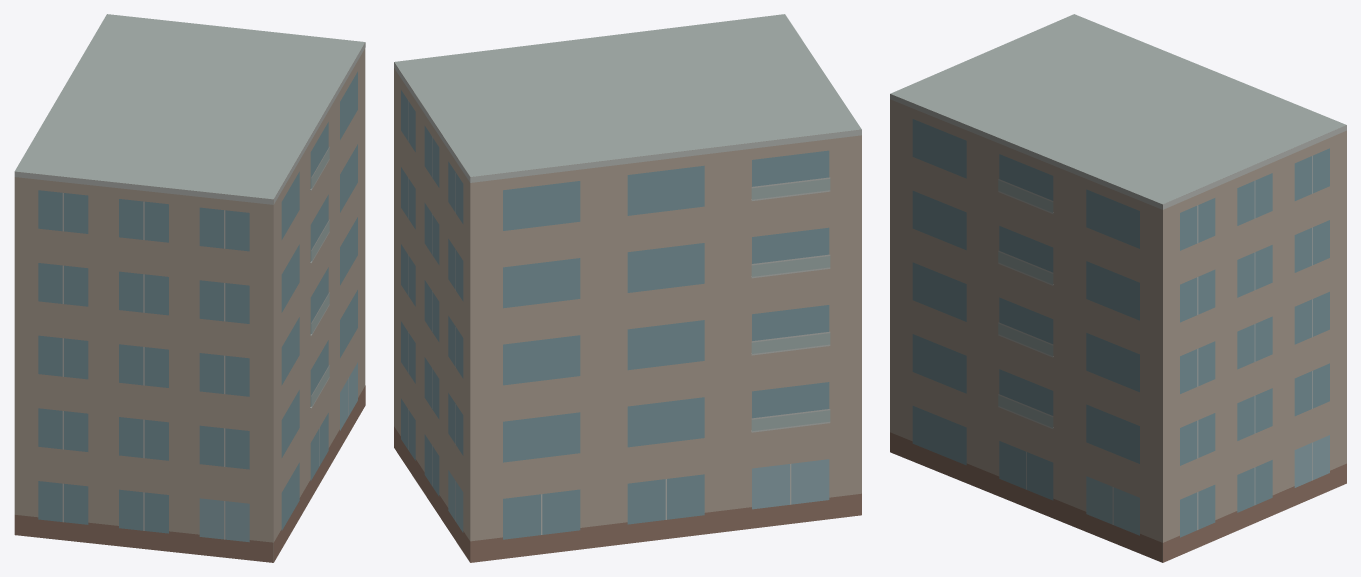
The model's file is survey-upis-32886579.glb.
3 views of the same model, side by side, from view 1: azimuth 30°, elevation 25°; view 2: azimuth 150°, elevation 25°; view 3: azimuth 270°, elevation 25° (orthographic). The views are drawn at different scales.
Visible parts, largest first — view 1: survey-upis-32886579.tmp; view 2: survey-upis-32886579.tmp; view 3: survey-upis-32886579.tmp.
Boxes of the visible parts, x1=… form: survey-upis-32886579.tmp: x1=14, y1=14, x2=365, y2=562; survey-upis-32886579.tmp: x1=394, y1=14, x2=861, y2=562; survey-upis-32886579.tmp: x1=890, y1=14, x2=1346, y2=562.
Bounding box in the file's own units: 18.24 × 16 × 18.48.
